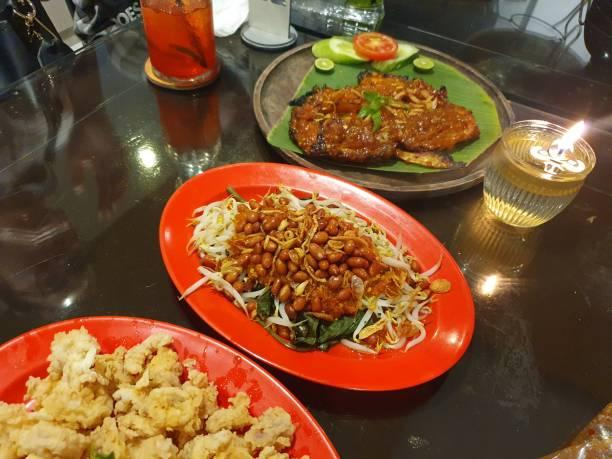Braised Crucian Carp: (157, 161, 474, 390), (250, 37, 513, 194)
